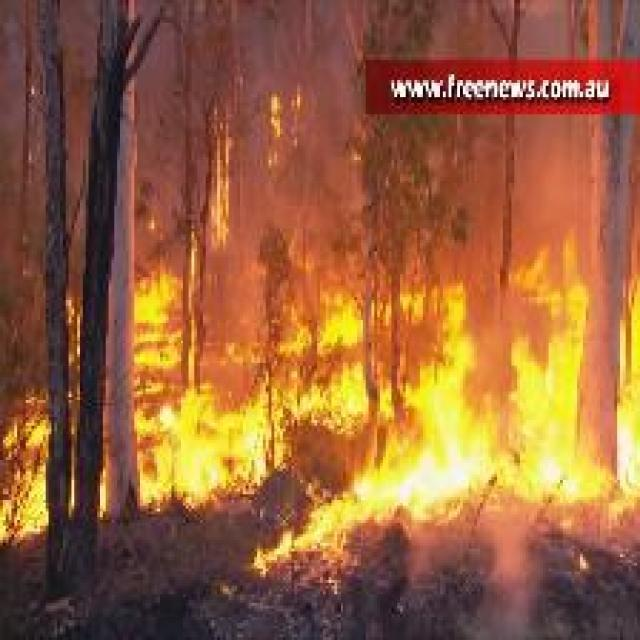Fire: (140, 228, 640, 574), (1, 413, 48, 541)
